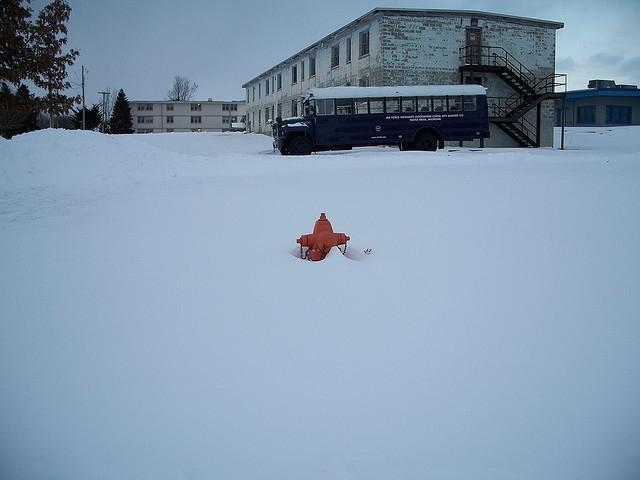bus: (270, 84, 490, 154)
